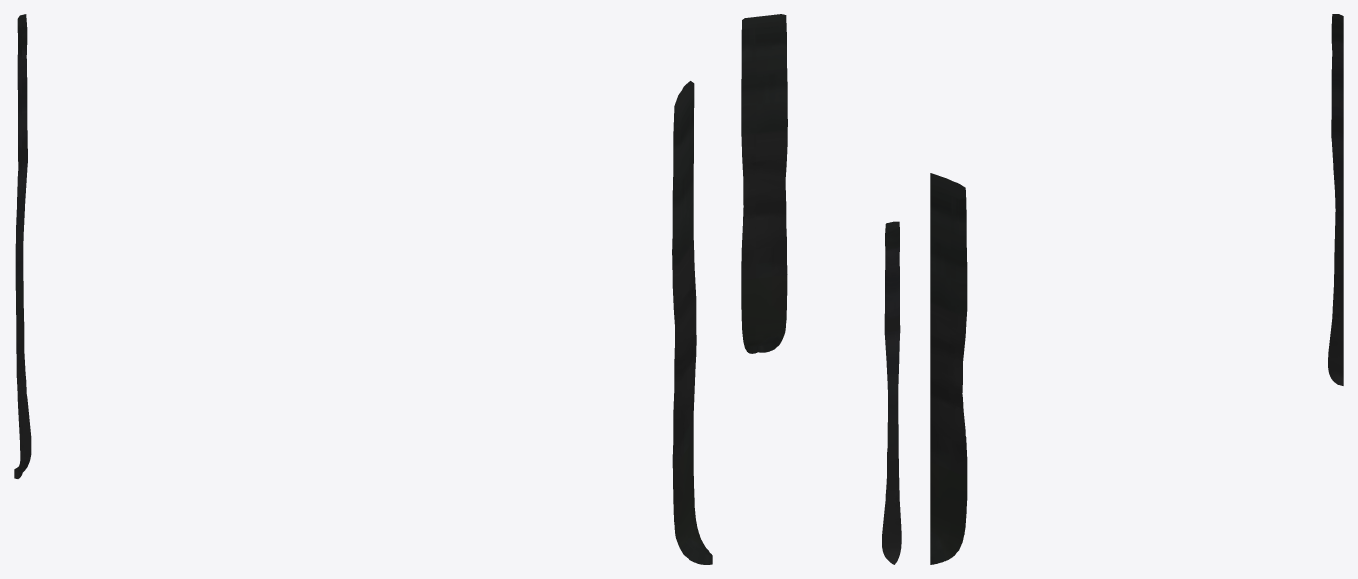
File: z20-167777-405236-h0-yup-uvflip-v3-world.glb
3 renders of one model, left to right at view 1: azimuth 30°, elevation 25°; view 2: azimuth 150°, elevation 25°; view 3: azimuth 270°, elevation 25°, orthographic. The views are drawn at different scales.
Size of the model in its own units: 30.16 by 30.52 by 30.32.
1 material, 1 textured.
